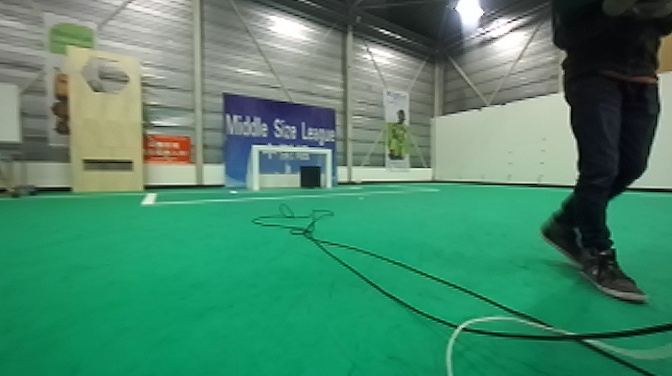goalpost: (322, 146, 333, 190), (249, 146, 259, 193)
human: (545, 1, 667, 303)
